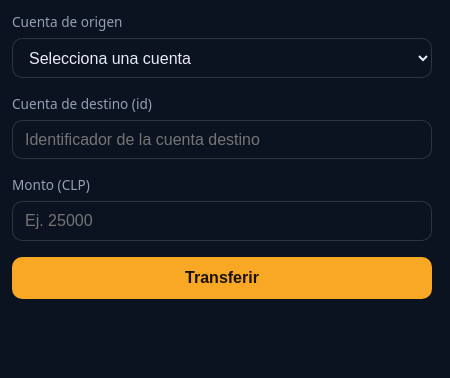
Test: FormularioTransferencia › muestra el feedback de éxito devuelto por la acción
The width and height of the screenshot is (450, 378).
Select "CORRIENTE · Banco Estado · acc-1111…" in the dropdown labelled "Cuenta de origen" at [222, 58], box [12,38,432,78]
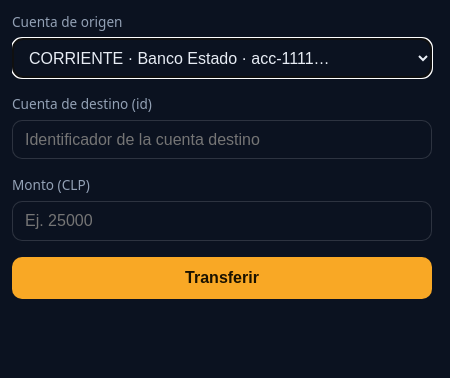
Type "acc-99999999-0000" into the field labelled "Cuenta de destino (id)" at [222, 140], box [12,120,432,159]
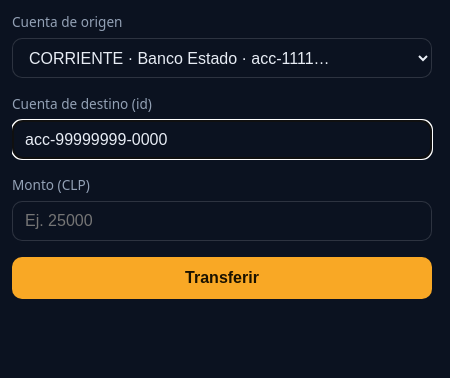
Type "25000" into the number field labelled "Monto (CLP)" at [222, 221], box [12,201,432,240]
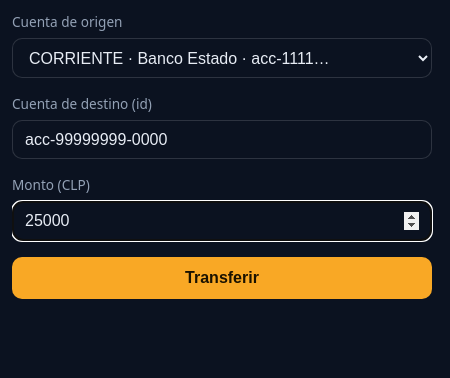
Click the button "Transferir" at [222, 278], box [12,256,432,298]
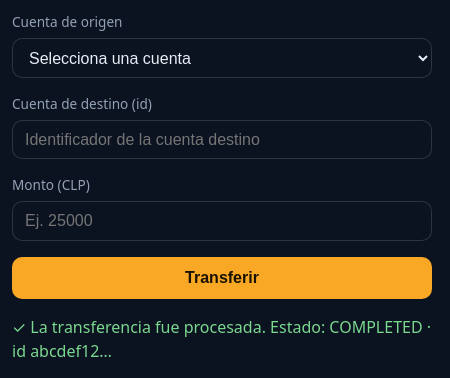
Expected: the text "✓" shows "COMPLETED", [12,316,431,362]
Expected: the text "✓" shows "abcdef12", [12,316,431,362]
